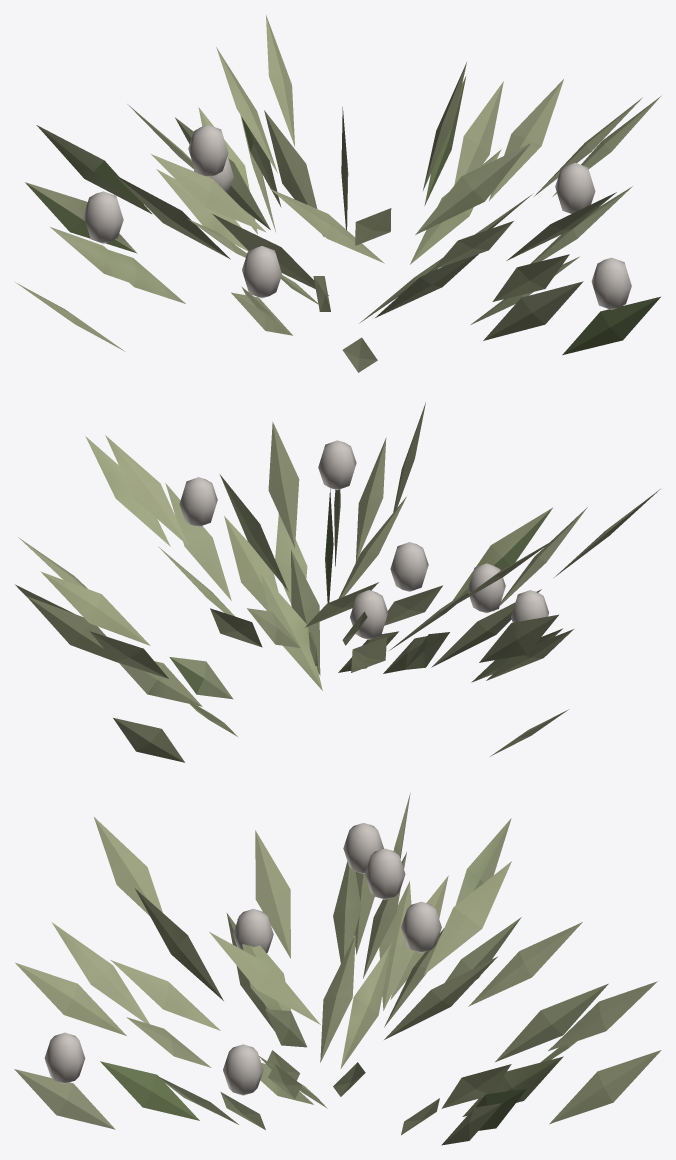
Rendered from desktop.glb.
3 renders of one model, top to bottom at view 1: azimuth 30°, elevation 25°; view 2: azimuth 150°, elevation 25°; view 3: azimuth 270°, elevation 25°, orthographic. The views are drawn at different scales.
Bounding box in the file's own units: 0.5764 × 0.1979 × 0.5713.
1 material, 1 textured.
